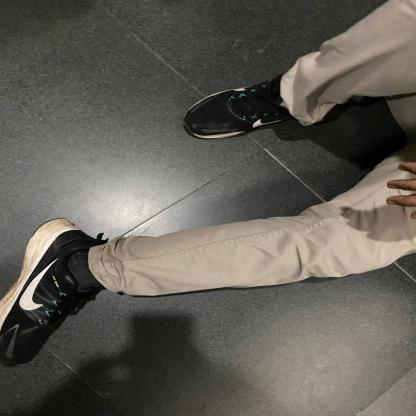leg: (0, 215, 416, 369), (158, 0, 416, 163)
